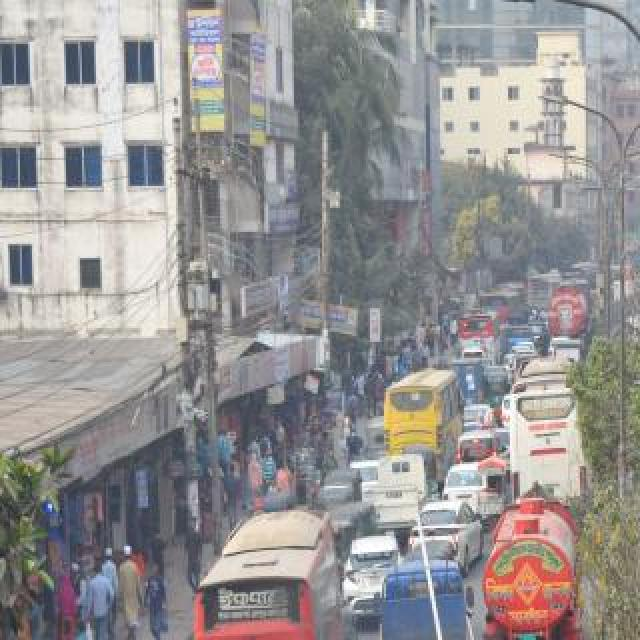bus: (198, 510, 350, 640), (516, 353, 590, 503), (389, 362, 457, 476), (459, 315, 499, 365), (480, 288, 518, 328), (626, 316, 640, 416), (527, 270, 557, 310)
car: (342, 534, 400, 616), (414, 499, 484, 563), (444, 462, 484, 504), (530, 321, 550, 351)
truck: (482, 482, 584, 640), (548, 288, 590, 346)
van: (382, 566, 480, 640), (375, 454, 425, 530), (458, 426, 504, 462), (452, 361, 484, 403), (553, 340, 581, 366)
